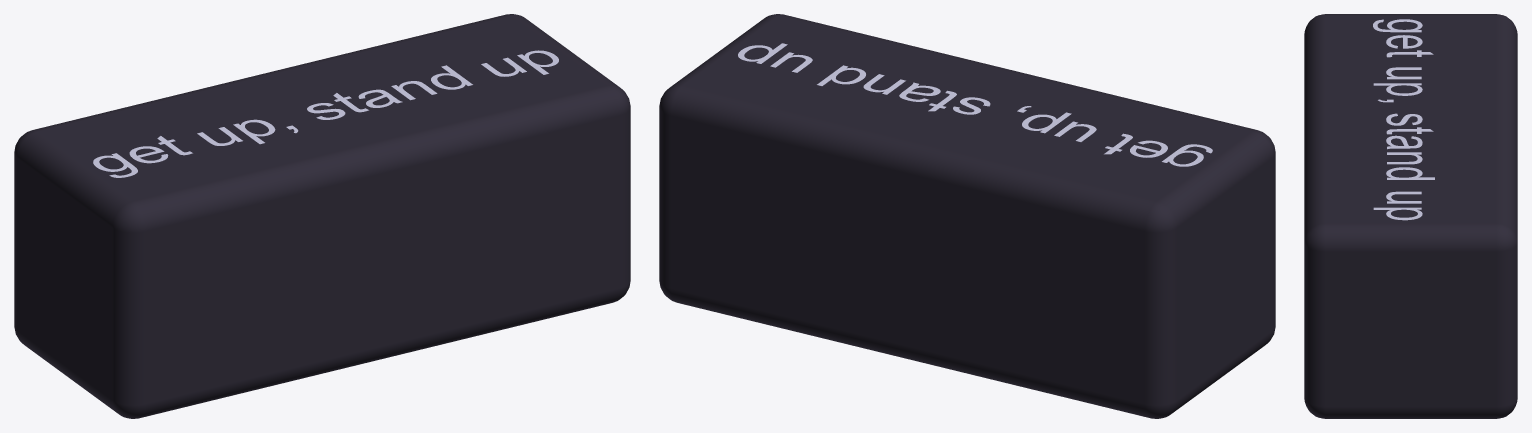
Rendered from get_up.glb.
The picture shows the model from 3 angles, left to right: view 1: azimuth 30°, elevation 25°; view 2: azimuth 150°, elevation 25°; view 3: azimuth 270°, elevation 25°; orthographic projection. The views are drawn at different scales.
Visible parts, largest first — view 1: Cut, Extrude; view 2: Cut, Extrude; view 3: Cut, Extrude.
Boxes of the visible parts, <box> form: Cut: <box>14,14,630,418</box>; Extrude: <box>93,50,558,177</box>; Cut: <box>659,14,1275,418</box>; Extrude: <box>738,43,1212,166</box>; Cut: <box>1304,14,1517,418</box>; Extrude: <box>1373,19,1434,220</box>.
Size of the model in its own units: 5 by 2 by 2.
